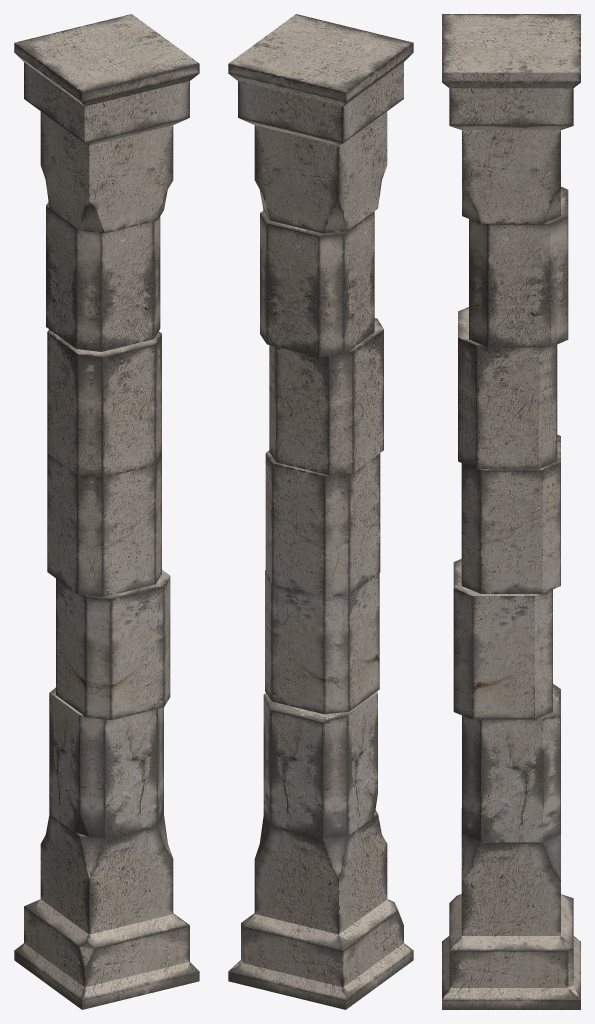
The model's file is column_a_02.FBX.
The picture shows the model from 3 angles, left to right: view 1: azimuth 30°, elevation 25°; view 2: azimuth 150°, elevation 25°; view 3: azimuth 270°, elevation 25°; orthographic projection. The views are drawn at different scales.
Parts seen in each view (by area): view 1: Box003; view 2: Box003; view 3: Box003.
Boxes of the visible parts, box(x1,y1,x2,y2) form: Box003: box(14, 14, 199, 1009); Box003: box(228, 14, 413, 1009); Box003: box(442, 14, 580, 1009).
Bounding box in the file's own units: 134 × 1000 × 134.
